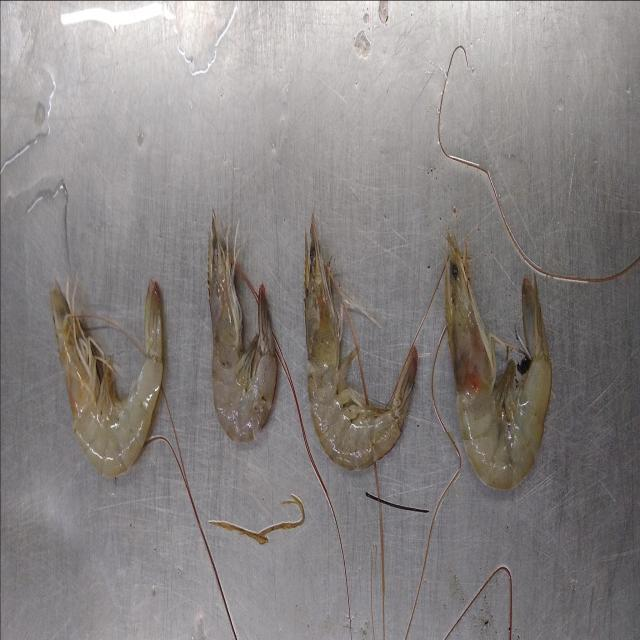shrimp: (304, 216, 418, 469), (445, 233, 551, 489), (50, 280, 162, 476), (208, 211, 276, 442)
